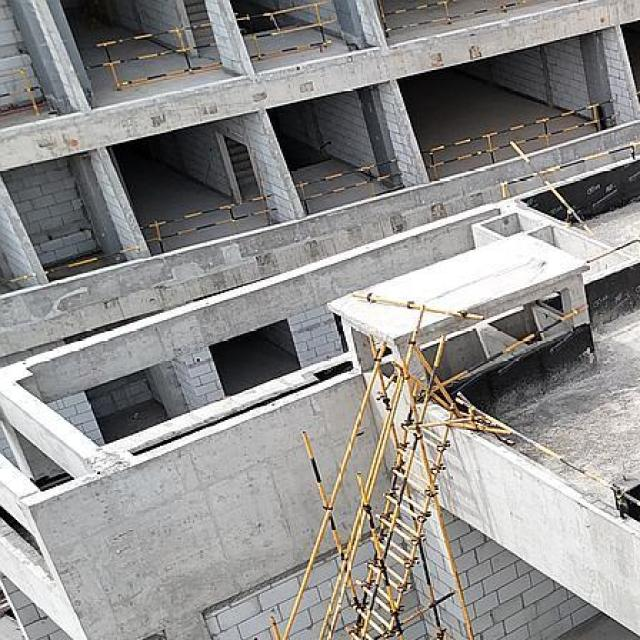edge_guardrail: (454, 397, 640, 520), (420, 98, 617, 178), (441, 304, 589, 386), (77, 22, 223, 92), (139, 192, 278, 254), (508, 140, 596, 236), (501, 141, 640, 200), (296, 158, 406, 216), (234, 0, 336, 61), (375, 0, 515, 39), (46, 248, 137, 275), (0, 65, 43, 118), (585, 238, 640, 264), (0, 274, 29, 287)
